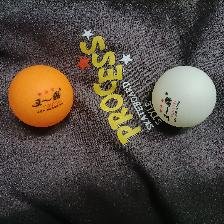WhiteBall: (151, 65, 216, 127)
YellowBall: (7, 64, 73, 127)
